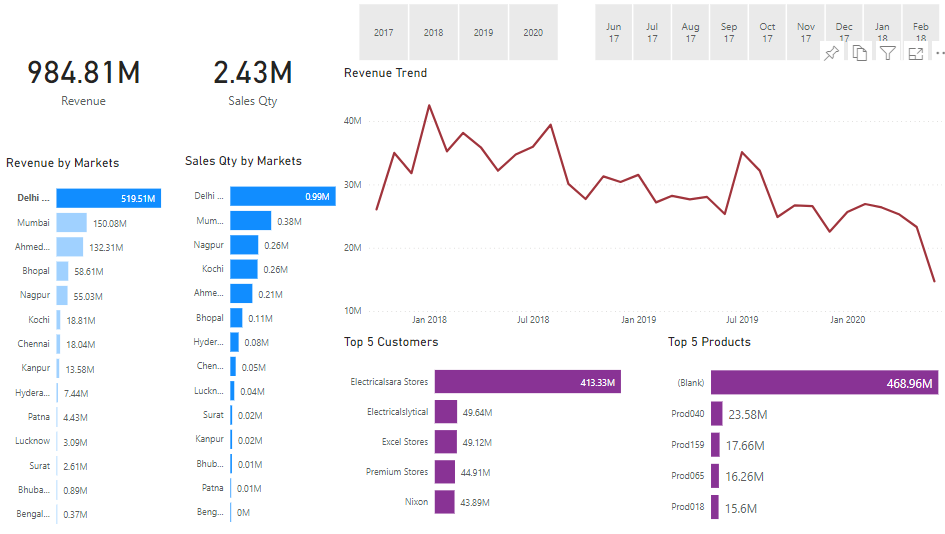

The page's visual inventory and layout, read from the dashboard file:
{"tool":"powerbi","page":{"name":"Page 1","canvas":[1280,720],"ordinal":0},"visuals":[{"type":"card","fields":{"Values":["base measures.Revenue"]},"box":[0,0,218.4,208.3],"z":0},{"type":"card","fields":{"Values":["base measures.Sales Qty"]},"box":[218.4,0,235.2,208.3],"z":1000},{"type":"barChart","title":"Revenue by Markets","fields":{"Y":["base measures.Revenue"],"Category":["sales markets.markets_name"]},"box":[0,208.7,239.9,512.7],"z":2000},{"type":"barChart","title":"Sales Qty by Markets","fields":{"Y":["base measures.Sales Qty"],"Category":["sales markets.markets_name"]},"box":[239.9,207,213.6,512.7],"z":3000},{"type":"slicer","fields":{"Values":["sales date.year"]},"box":[453.5,0,315.5,88.7],"z":4000},{"type":"slicer","fields":{"Values":["sales date.cy_date"]},"box":[769,0,511,88.7],"z":5000},{"type":"barChart","title":"Top 5 Customers","fields":{"Y":["base measures.Revenue"],"Category":["sales customers.custmer_name"]},"box":[453.5,448.6,433.8,262.9],"z":6000},{"type":"barChart","title":"Top 5 Products","fields":{"Y":["base measures.Revenue"],"Category":["sales products.product_code"]},"box":[887.3,448.6,392.7,271.1],"z":7000},{"type":"lineChart","title":"Revenue Trend","fields":{"Y":["base measures.Revenue"],"Category":["sales date.cy_date"]},"box":[453.5,88.7,826.5,359.8],"z":8000}]}

Visuals, with their boxes on the page's 1280x720 design canvas (x1, y1, x2, y2). These are canvas units, not pixel positions in the 945x534 screenshot, which may show the page scaled, cropped or inside an application window:
card - base measures.Revenue: x1=0 y1=0 x2=218 y2=208
card - base measures.Sales Qty: x1=218 y1=0 x2=454 y2=208
"Revenue by Markets" barChart: x1=0 y1=209 x2=240 y2=721
"Sales Qty by Markets" barChart: x1=240 y1=207 x2=454 y2=720
slicer - sales date.year: x1=454 y1=0 x2=769 y2=89
slicer - sales date.cy_date: x1=769 y1=0 x2=1280 y2=89
"Top 5 Customers" barChart: x1=454 y1=449 x2=887 y2=712
"Top 5 Products" barChart: x1=887 y1=449 x2=1280 y2=720
"Revenue Trend" lineChart: x1=454 y1=89 x2=1280 y2=448
